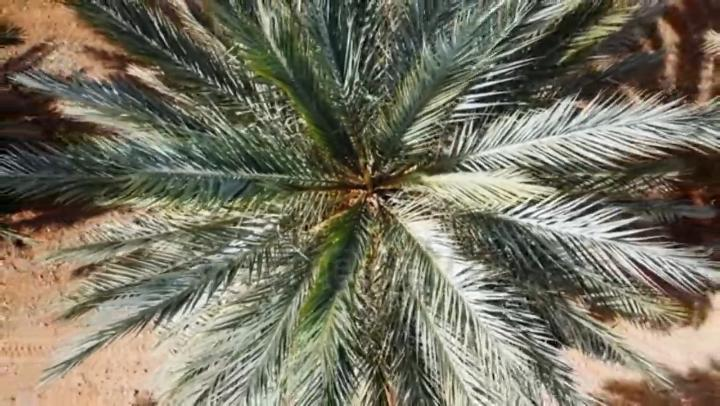Date-Palm-Crown: (220, 40, 520, 334)
